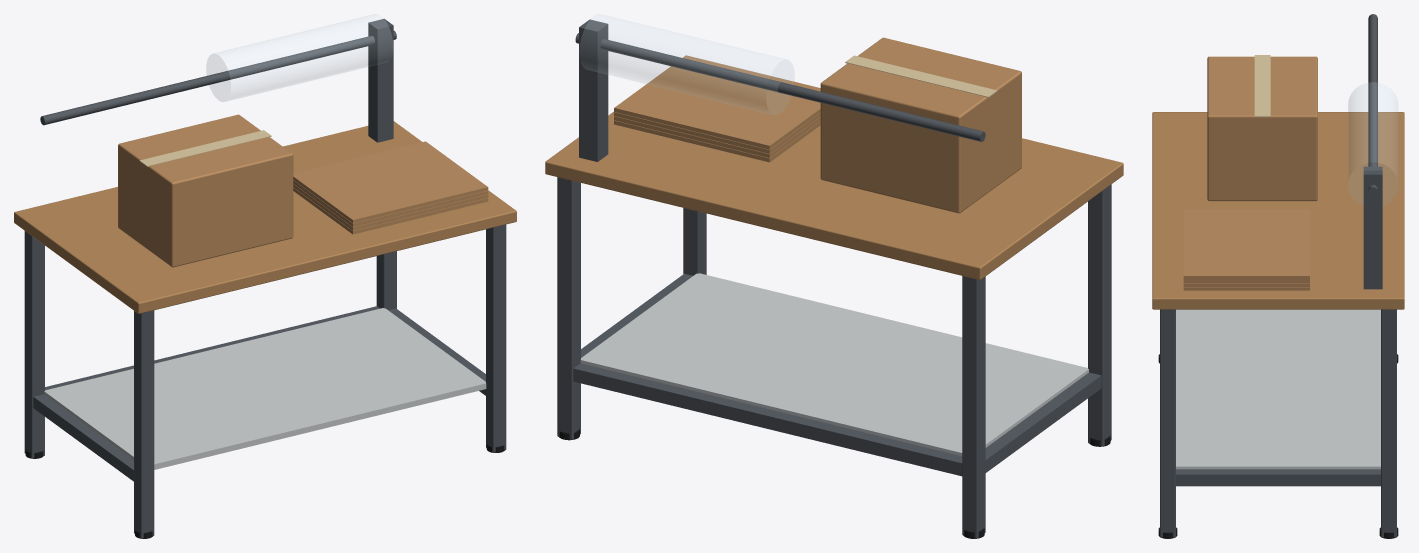
Rendered from packing-table.glb.
The picture shows the model from 3 angles, left to right: view 1: azimuth 30°, elevation 25°; view 2: azimuth 150°, elevation 25°; view 3: azimuth 270°, elevation 25°; orthographic projection. The views are drawn at different scales.
Visible parts, largest first — view 1: paint_light_grey, cardboard, steel_dark, wood_top, polycarbonate, packing_tape; view 2: paint_light_grey, steel_dark, cardboard, wood_top, polycarbonate, packing_tape; view 3: paint_light_grey, wood_top, cardboard, steel_dark, polycarbonate, packing_tape.
Part boxes in pixels (<box>): paint_light_grey: <box>44,308,486,469</box>; cardboard: <box>118,114,488,267</box>; steel_dark: <box>24,18,506,538</box>; wood_top: <box>14,121,516,313</box>; polycarbonate: <box>206,14,392,101</box>; packing_tape: <box>139,130,271,166</box>; paint_light_grey: <box>580,273,1088,456</box>; steel_dark: <box>557,19,1111,538</box>; cardboard: <box>614,37,1021,213</box>; wood_top: <box>545,112,1123,279</box>; polycarbonate: <box>580,14,794,114</box>; packing_tape: <box>845,55,997,97</box>; paint_light_grey: <box>1176,309,1380,469</box>; wood_top: <box>1152,112,1404,309</box>; cardboard: <box>1183,56,1317,290</box>; steel_dark: <box>1160,14,1396,537</box>; polycarbonate: <box>1348,82,1397,205</box>; packing_tape: <box>1254,55,1270,116</box>.
Size of the model in its own units: 1.4 by 1.28 by 0.8.
